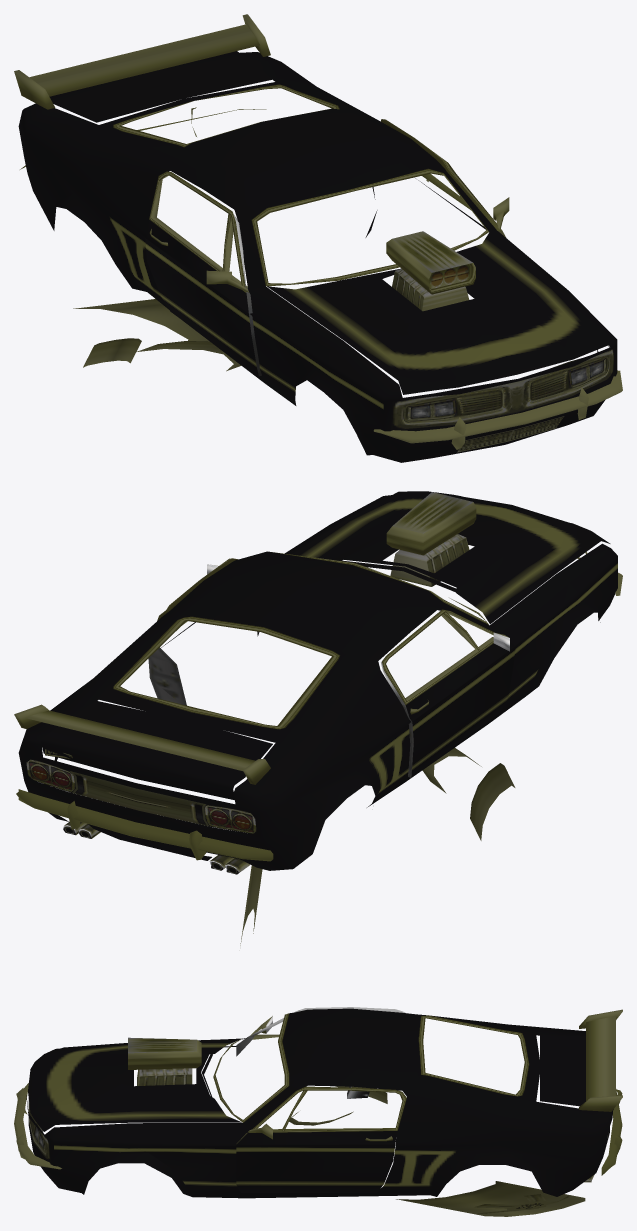
Rendered from car-MSCL_Car6.glb.
3 renders of one model, top to bottom at view 1: azimuth 30°, elevation 25°; view 2: azimuth 150°, elevation 25°; view 3: azimuth 270°, elevation 25°, orthographic. The views are drawn at different scales.
Visible parts, largest first — view 1: MSCL_Car6; view 2: MSCL_Car6; view 3: MSCL_Car6.
Part boxes in pixels (<box>): MSCL_Car6: <box>14,14,622,462</box>; MSCL_Car6: <box>14,491,622,945</box>; MSCL_Car6: <box>14,1007,622,1216</box>.
Size of the model in its own units: 2.52 by 1.79 by 4.83.
Materials: 10 (10 with a texture image).
